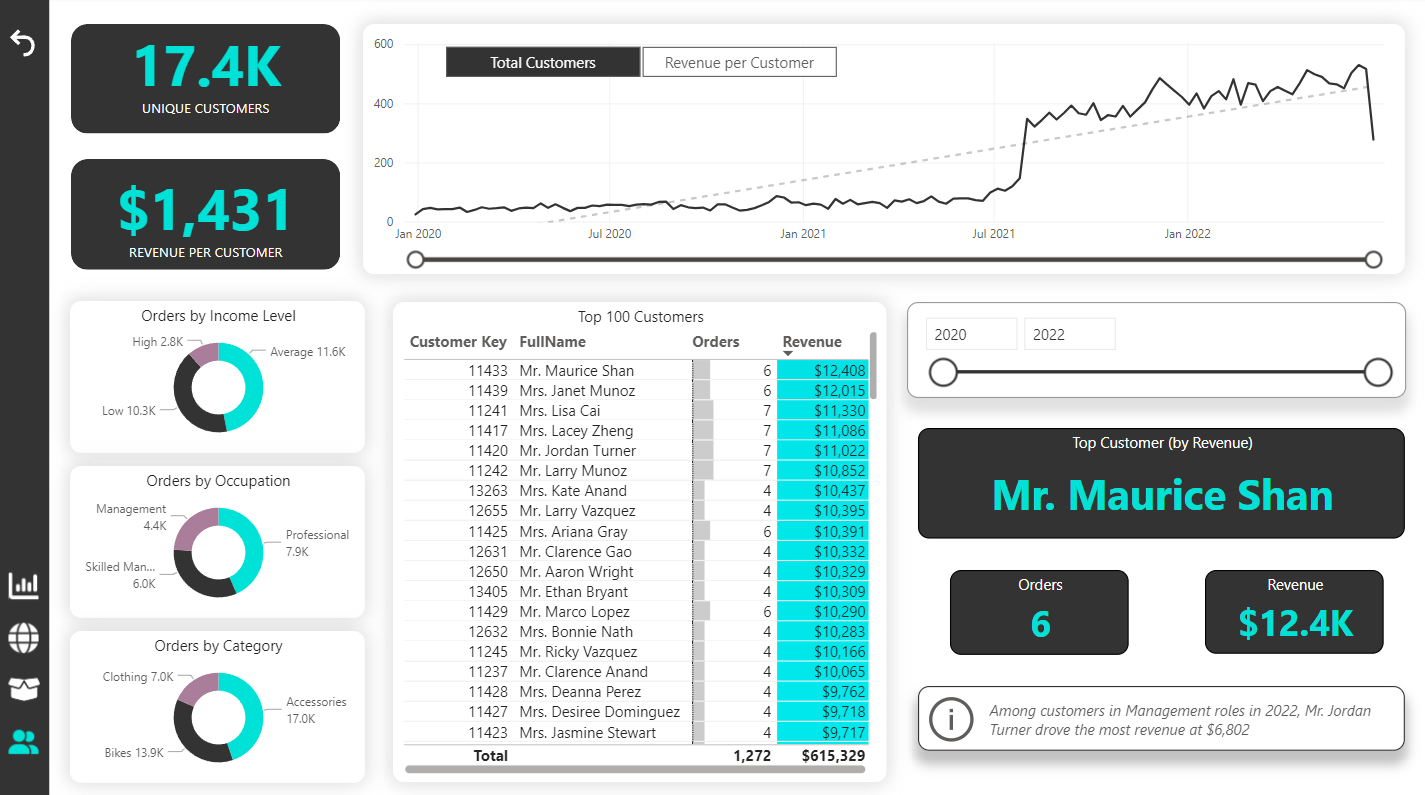

The page's visual inventory and layout, read from the dashboard file:
{"tool":"powerbi","page":{"name":"Customer Detail","canvas":[1280,720],"ordinal":3},"visuals":[{"type":"shape","title":"Left Navbar Background","box":[0,0,45,720],"z":0},{"type":"actionButton","box":[4.5,508.1,35.3,39.8],"z":1000,"group":"g1"},{"type":"shape","box":[64.7,145.1,241.1,99.3],"z":1000},{"type":"actionButton","box":[4.5,554.3,35.3,39.8],"z":2000,"group":"g1"},{"type":"card","fields":{"Values":["Measure Table.Average Revenue per Customer"]},"box":[63.6,139.5,243.3,111.6],"z":2000},{"type":"shape","box":[64.7,24.6,241.1,98.2],"z":3000},{"type":"actionButton","box":[4.5,647.4,35.2,39.6],"z":3000,"group":"g1"},{"type":"card","fields":{"Values":["Measure Table.Total Customers"]},"box":[72.6,11.2,225.5,111.6],"z":4000},{"type":"actionButton","box":[4.1,600.5,36.1,40.5],"z":4000,"group":"g1"},{"type":"lineChart","title":"Customers Trending","fields":{"Y":["Measure Table.Total Customers"],"Category":["Calendar Lookup.Date Hierarchy.Start of Year","Calendar Lookup.Date Hierarchy.Start of Month","Calendar Lookup.Date Hierarchy.Start of Week","Calendar Lookup.Date Hierarchy.Date"]},"box":[326.1,24.5,932.9,223.8],"z":5000},{"type":"donutChart","title":"Orders by Income Level","fields":{"Category":["Customer Lookup.Income Level"],"Y":["Measure Table.Total Orders"]},"box":[64,272,264,136],"z":6000},{"type":"donutChart","title":"Orders by Occupation","fields":{"Y":["Measure Table.Total Orders"],"Category":["Customer Lookup.Occupation"]},"box":[64,420,264,136],"z":7000},{"type":"tableEx","title":"Top 100 Customers","fields":{"Values":["Customer Lookup.CustomerKey","Customer Lookup.FullName","Measure Table.Total Orders","Measure Table.Total Revenue"]},"box":[353,273,442,430],"z":8000},{"type":"card","title":"Top Customer (by Revenue)","fields":{"Values":["Customer Lookup.Full Name (Customer Detail)"]},"box":[823,385.9,436.1,99.3],"z":9000},{"type":"card","title":"Orders","fields":{"Values":["Measure Table.Total Orders (Customer Detail)"]},"box":[851.2,513.5,160,76.3],"z":10000},{"type":"card","title":"Revenue","fields":{"Values":["Measure Table.Total Revenue (Customer Detail)"]},"box":[1080.3,513.5,160,75.3],"z":11000},{"type":"slicer","fields":{"Values":["Calendar Lookup.Year"]},"box":[813,273,447,86],"z":12000},{"type":"actionButton","box":[4.5,24.5,36.2,33.5],"z":13000},{"type":"actionButton","box":[822.7,617.3,436.3,57.7],"z":14000},{"type":"group","id":"g1","title":"Navigation Buttons","box":[4.1,508.1,36.1,178.9],"z":15000},{"type":"slicer","fields":{"Values":["Customer Metric Selection.Customer Metric Selection"]},"box":[374.2,37.6,399.6,40.2],"z":16000},{"type":"donutChart","title":"Orders by Category","fields":{"Y":["Measure Table.Total Orders"],"Category":["Product Category Lookup.CategoryName"]},"box":[64,568,264,136],"z":17000}]}

Visuals, with their boxes on the page's 1280x720 design canvas (x1, y1, x2, y2). These are canvas units, not pixel positions in the 1425x795 screenshot, which may show the page scaled, cropped or inside an application window:
"Left Navbar Background" shape: BBox(0, 0, 45, 720)
actionButton: BBox(4, 508, 40, 548)
shape: BBox(65, 145, 306, 244)
actionButton: BBox(4, 554, 40, 594)
card - Measure Table.Average Revenue per Customer: BBox(64, 140, 307, 251)
shape: BBox(65, 25, 306, 123)
actionButton: BBox(4, 647, 40, 687)
card - Measure Table.Total Customers: BBox(73, 11, 298, 123)
actionButton: BBox(4, 600, 40, 641)
"Customers Trending" lineChart: BBox(326, 24, 1259, 248)
"Orders by Income Level" donutChart: BBox(64, 272, 328, 408)
"Orders by Occupation" donutChart: BBox(64, 420, 328, 556)
"Top 100 Customers" tableEx: BBox(353, 273, 795, 703)
"Top Customer (by Revenue)" card: BBox(823, 386, 1259, 485)
"Orders" card: BBox(851, 514, 1011, 590)
"Revenue" card: BBox(1080, 514, 1240, 589)
slicer - Calendar Lookup.Year: BBox(813, 273, 1260, 359)
actionButton: BBox(4, 24, 41, 58)
actionButton: BBox(823, 617, 1259, 675)
"Navigation Buttons" group: BBox(4, 508, 40, 687)
slicer - Customer Metric Selection.Customer Metric Selection: BBox(374, 38, 774, 78)
"Orders by Category" donutChart: BBox(64, 568, 328, 704)
